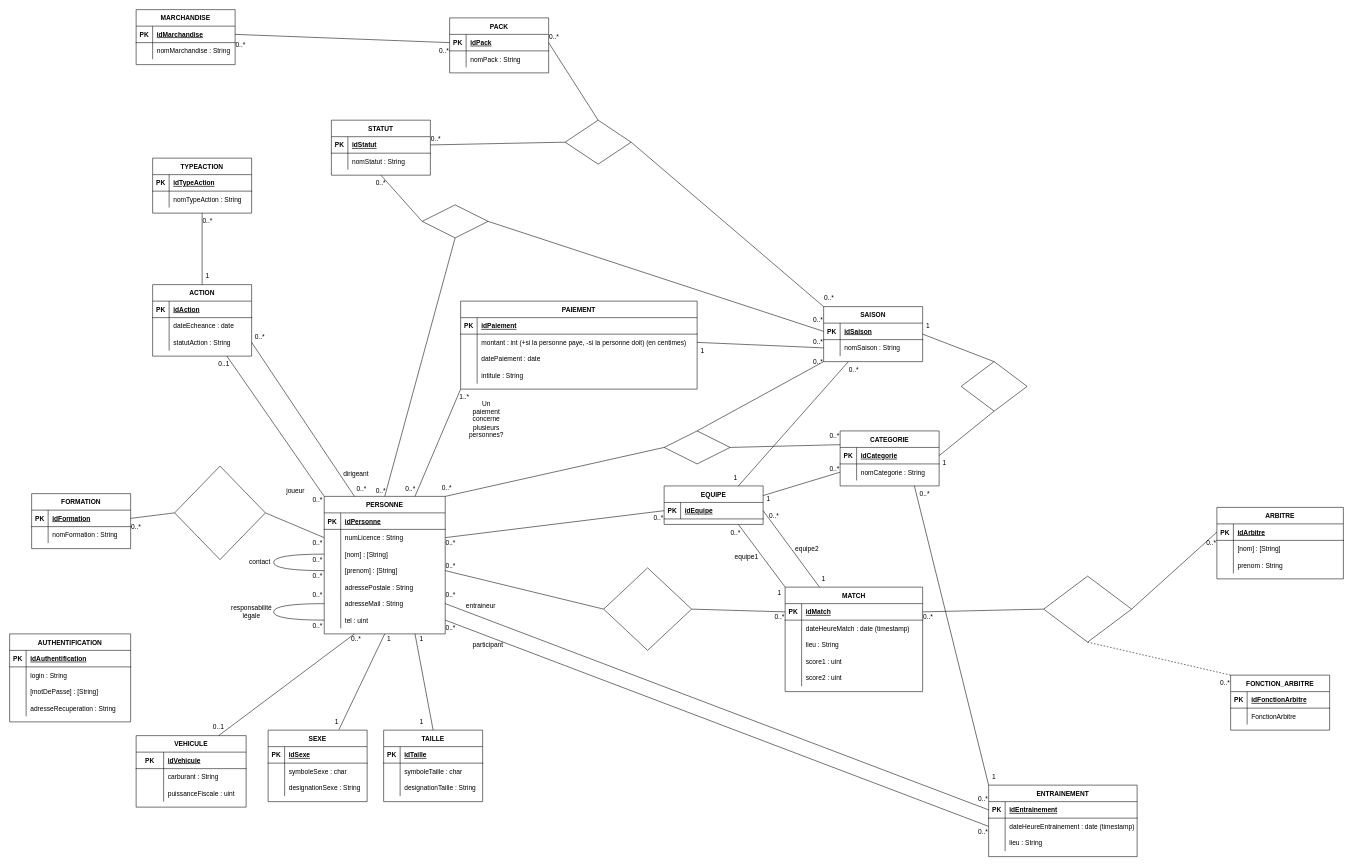
The diagram is 1353 pixels wide and 866 high, and some of its shapes have lost their labels. Each missing label, with the centre of its shape:
"arbitrage remuneration uint" belongs at pixel 1087 609.
"cotisation prix : uint" belongs at pixel 994 386.
"coutPack prix : uint" belongs at pixel 598 142.
"encadre stadeAller : bool stadeRetour : bool" belongs at pixel 647 608.
"joue dans" belongs at pixel 697 447.
"role" belongs at pixel 455 221.
"suivie par payée par le club : bool" belongs at pixel 219 513.
